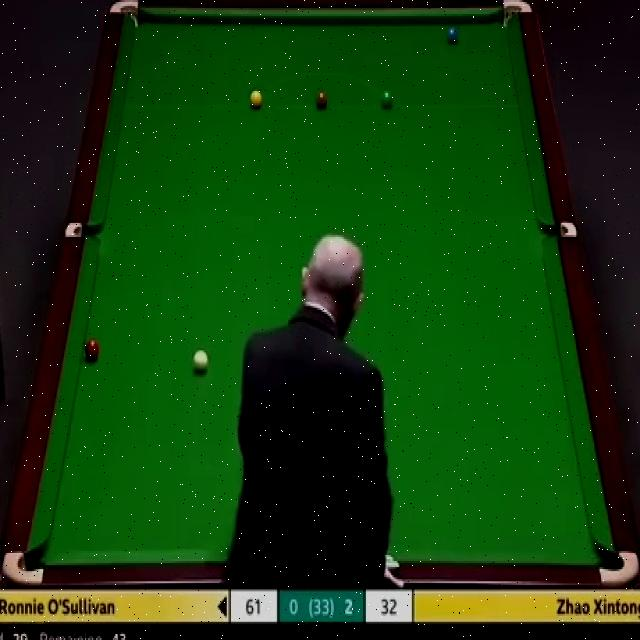blue-ball: (445, 25, 459, 42)
brown-ball: (314, 88, 329, 109)
green-ball: (378, 89, 394, 110)
red-ball: (84, 338, 100, 361)
white-ball: (192, 347, 210, 375)
yellow-ball: (249, 87, 263, 108)
